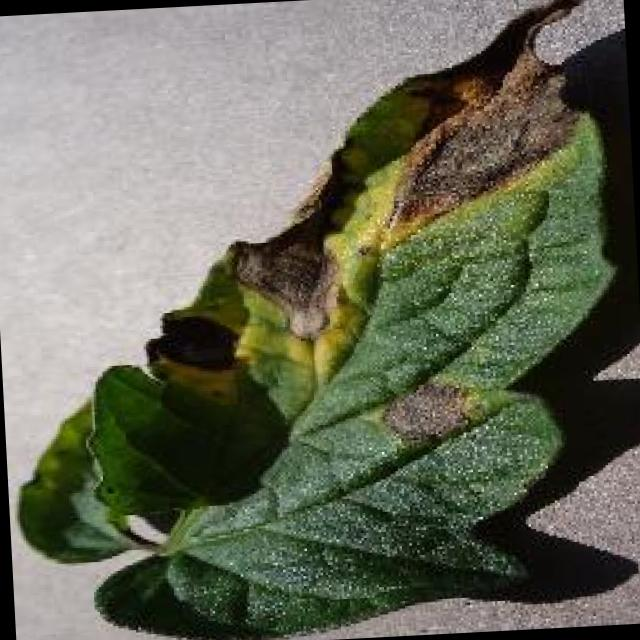Tomato_Early_Blight: (135, 36, 604, 476)
